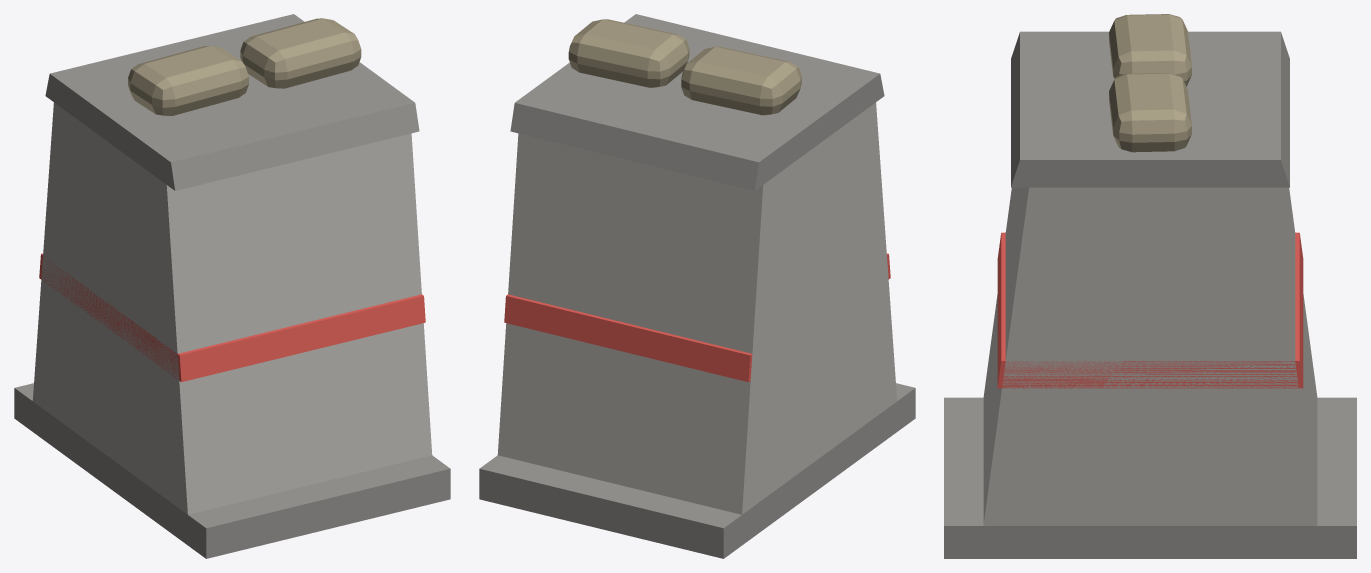
Rendered from wall_link_red.glb.
3 views of the same model, side by side, from view 1: azimuth 30°, elevation 25°; view 2: azimuth 150°, elevation 25°; view 3: azimuth 270°, elevation 25° (orthographic). The views are drawn at different scales.
Parts seen in each view (by area): view 1: Body; view 2: Body; view 3: Body.
Part boxes in pixels (bbox=[...]): Body: bbox=[14, 14, 450, 558]; Body: bbox=[479, 14, 915, 558]; Body: bbox=[944, 14, 1356, 558].
Bounding box in the file's own units: 1 × 1.6 × 1.36.
Materials: 1 (1 with a texture image).
